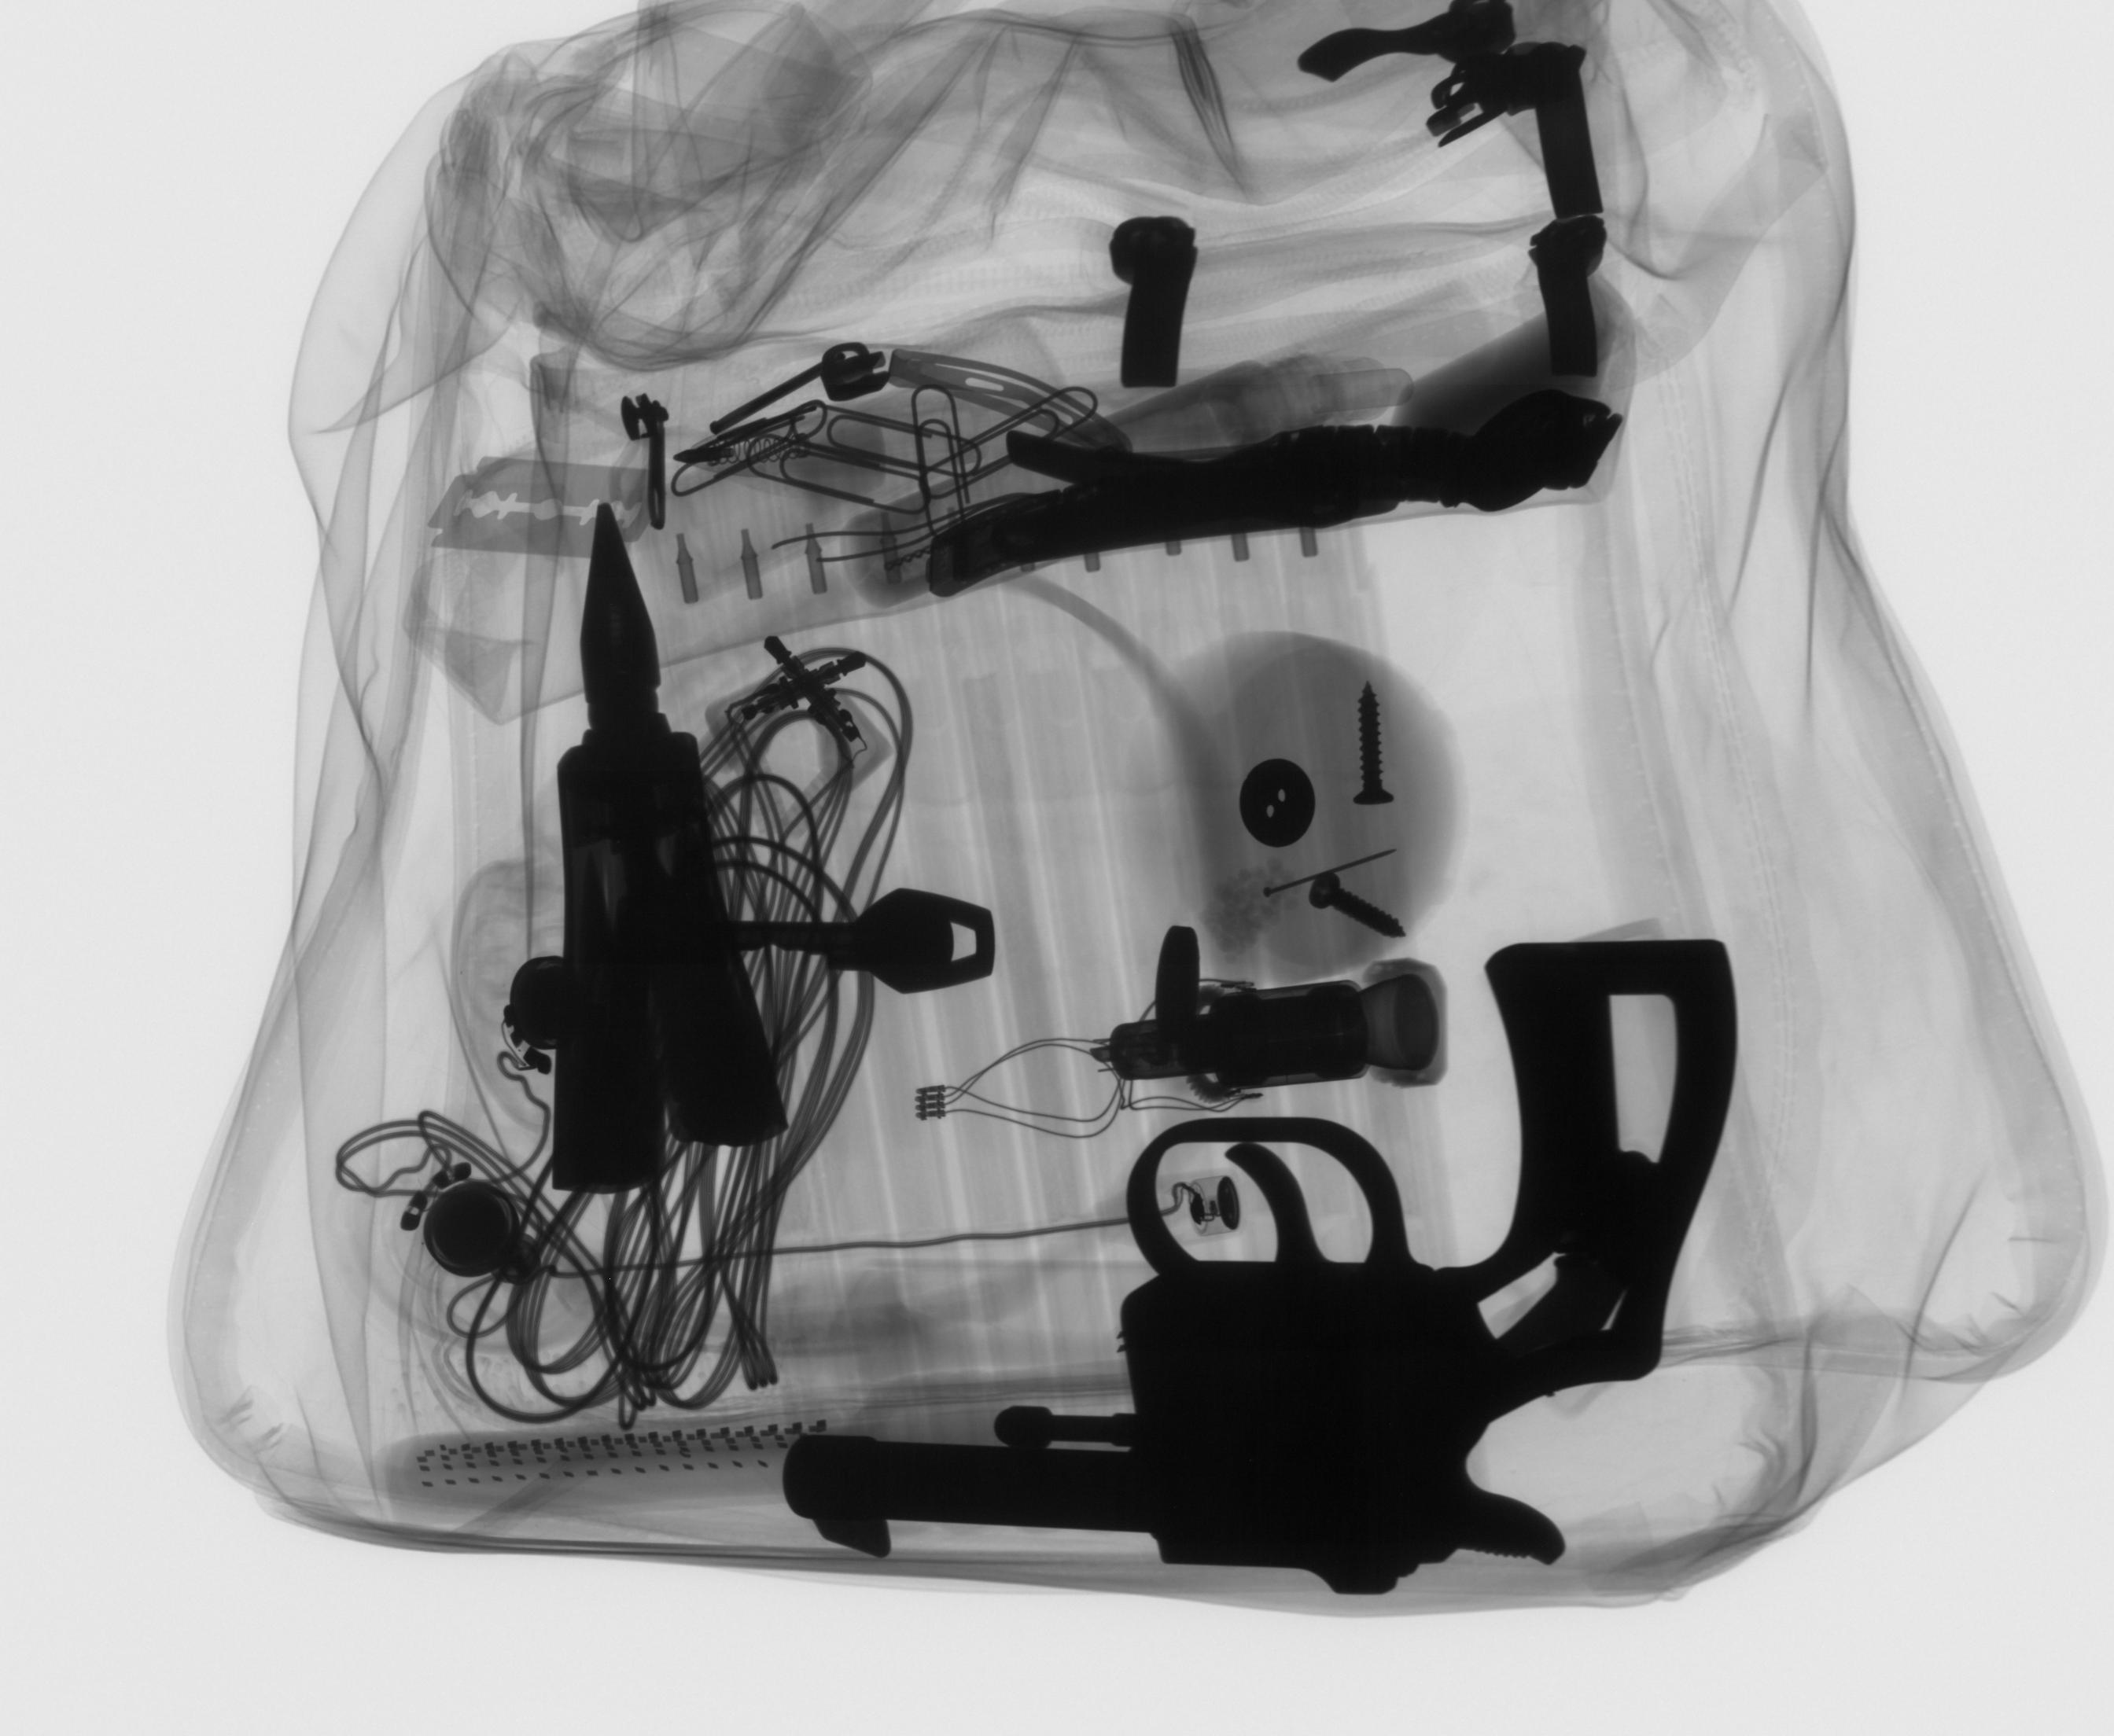Handgun: (768, 927, 1755, 1609)
RazorBlade: (413, 448, 667, 571)
